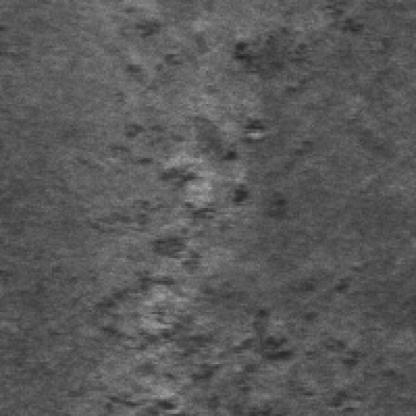rolled-in_scale: (81, 256, 368, 414), (121, 83, 272, 272), (115, 0, 220, 104), (231, 21, 320, 94)
